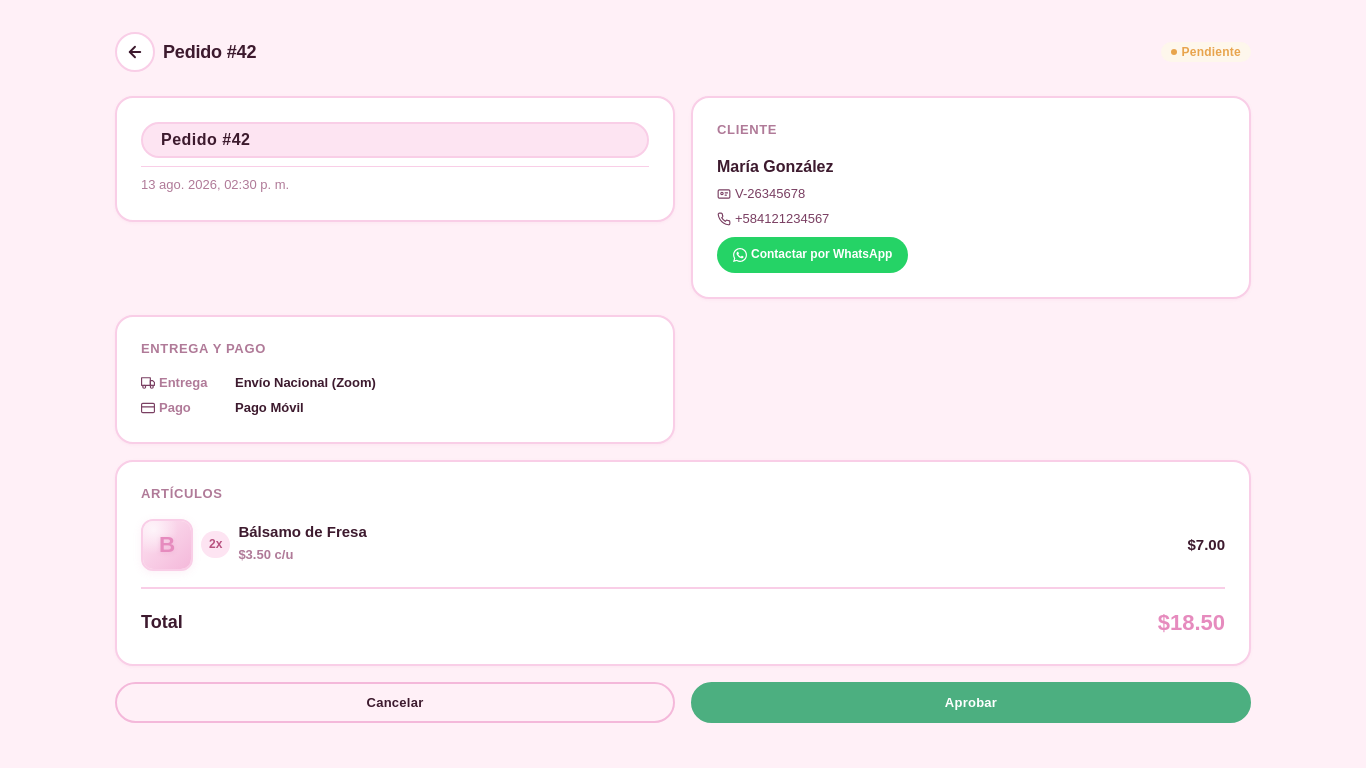
it: OrderDetailPage — aprobar / cancelar vía API › avisa con el mensaje del backend cuando el pedido ya fue procesado y refresca
Click the button "Aprobar" at (971, 702), box x1=691 y1=682 x2=1251 y2=723
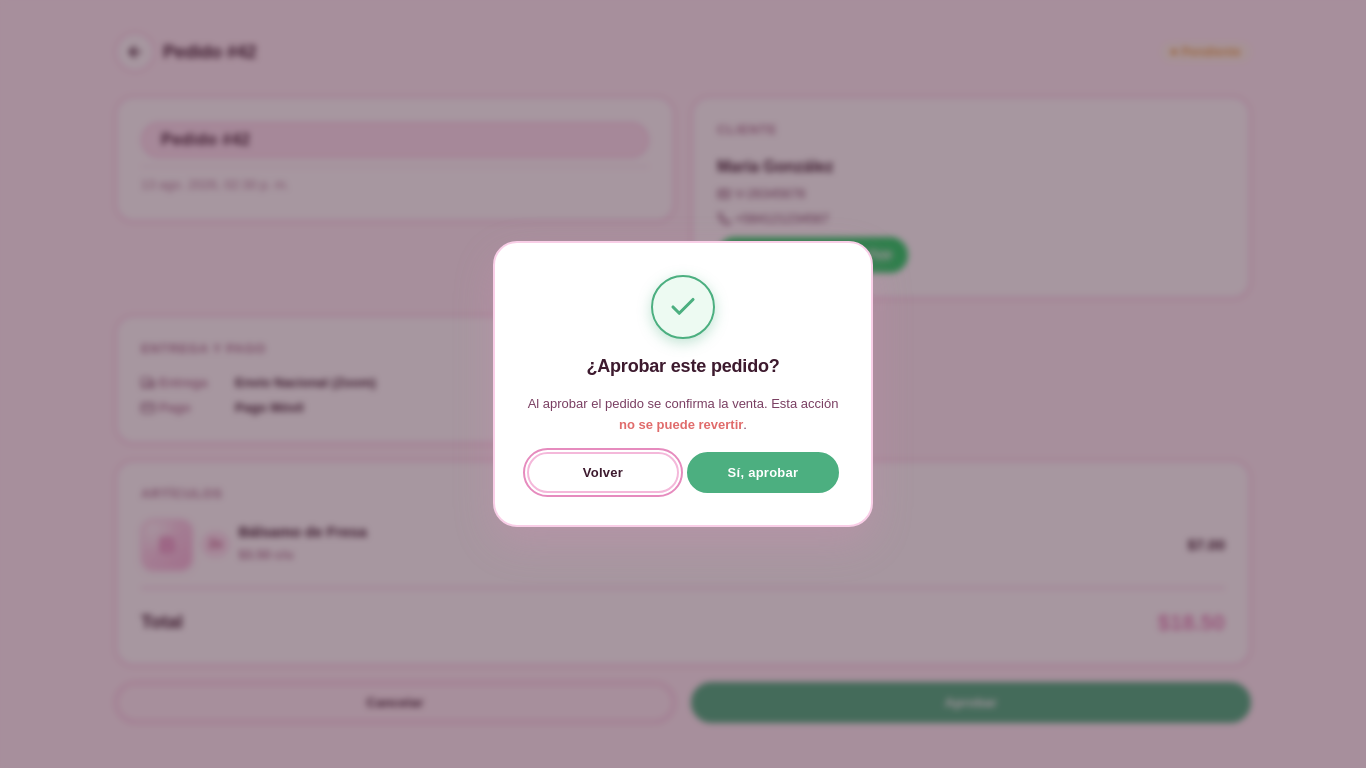
Click the button "Sí, aprobar" at (763, 472), box x1=687 y1=452 x2=839 y2=492
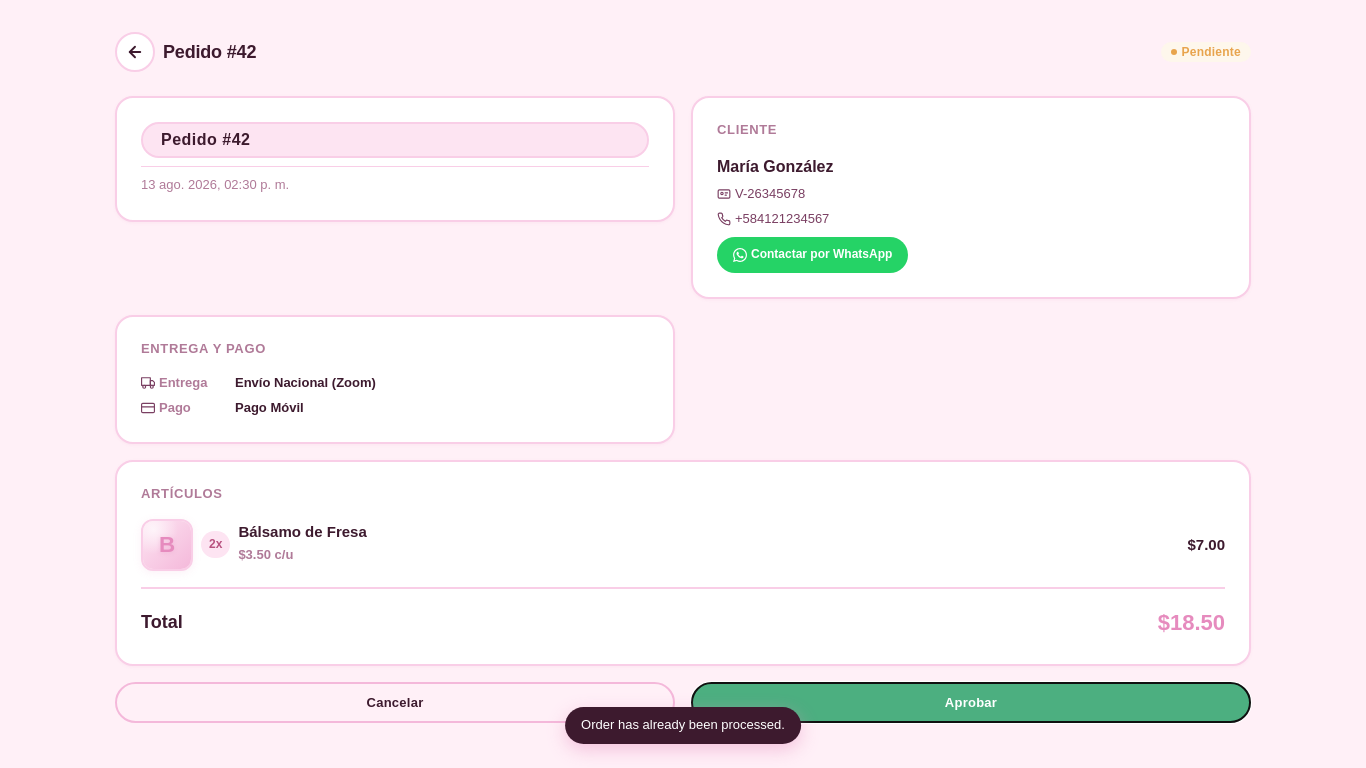
Expected: the text "Pendiente" is shown, x1=1162 y1=42 x2=1251 y2=62
Now the message shows "Order has already been processed", box x1=581 y1=717 x2=785 y2=732
